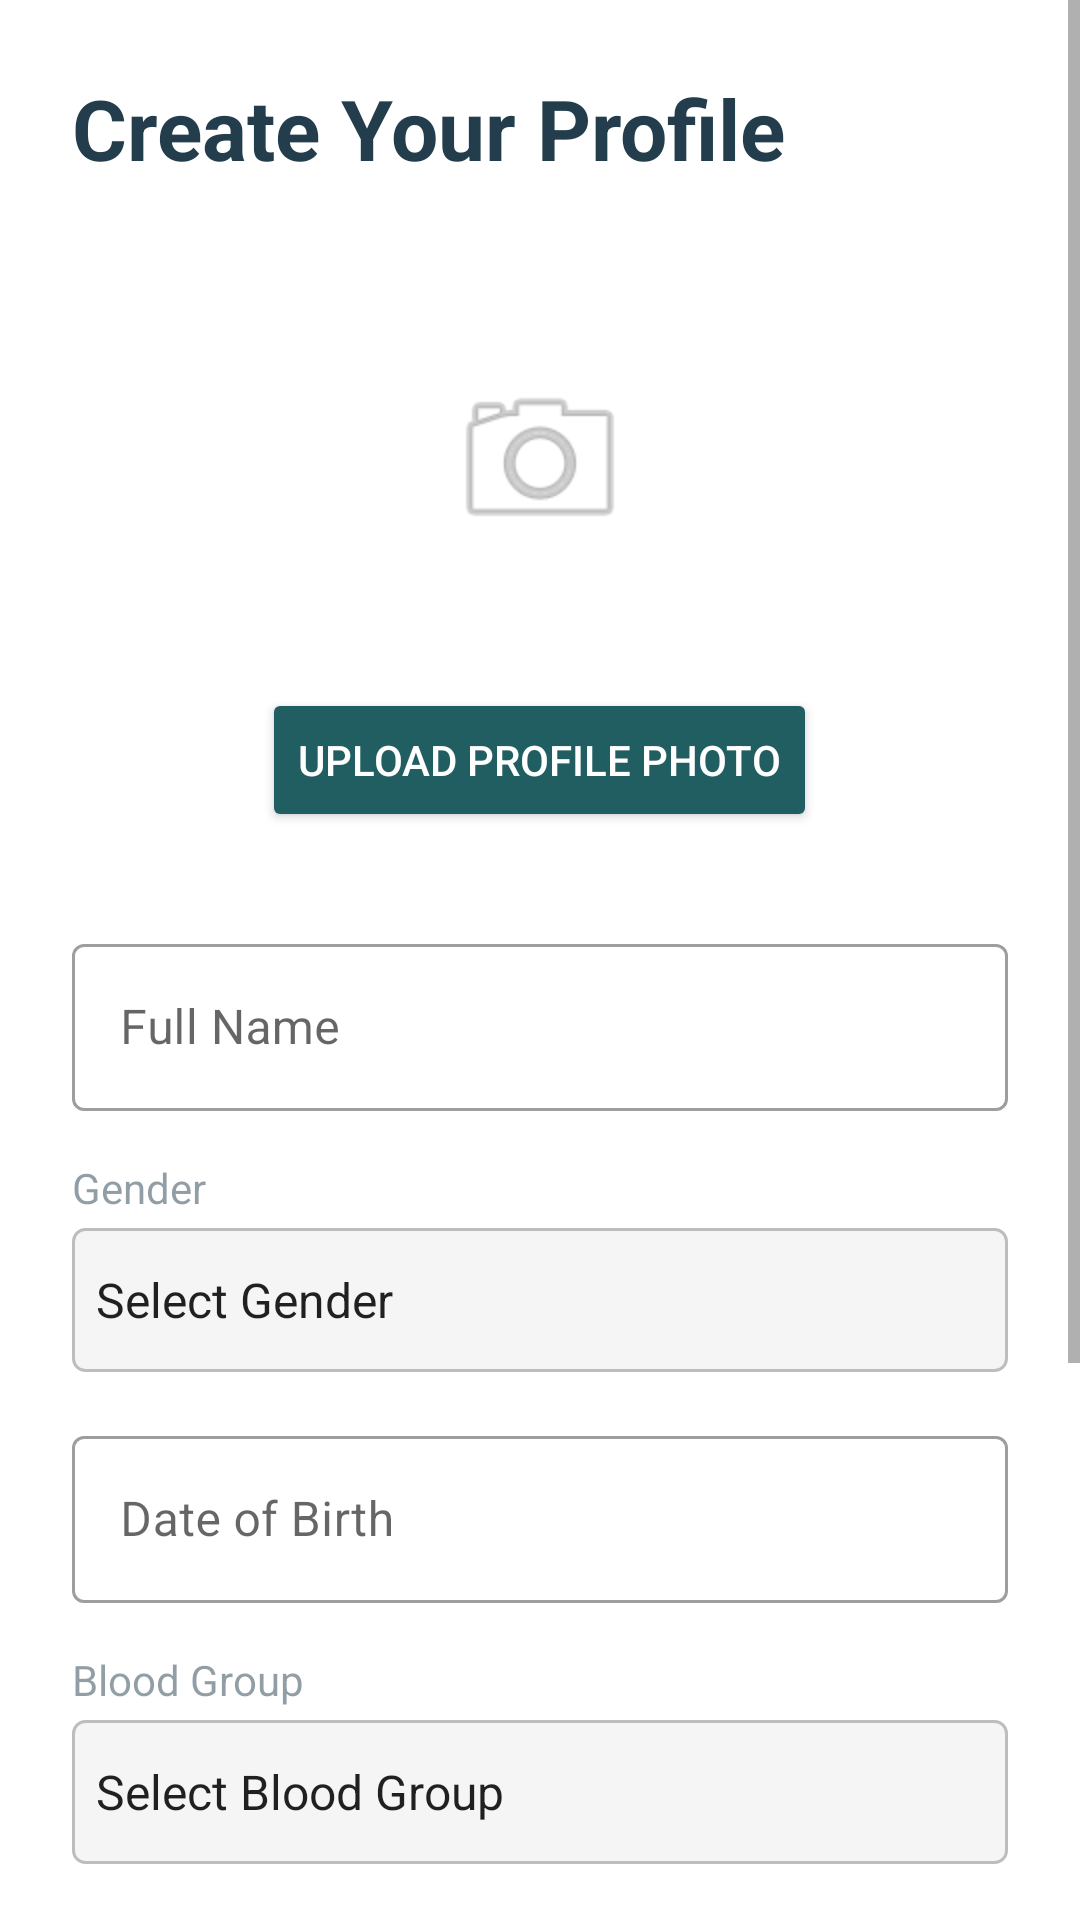

Where to tap for icons on this 1080w x 1920h app screen, as (x=x, y=y):
camera: (x=540, y=457)
